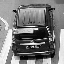mobil: (10, 3, 55, 57)
